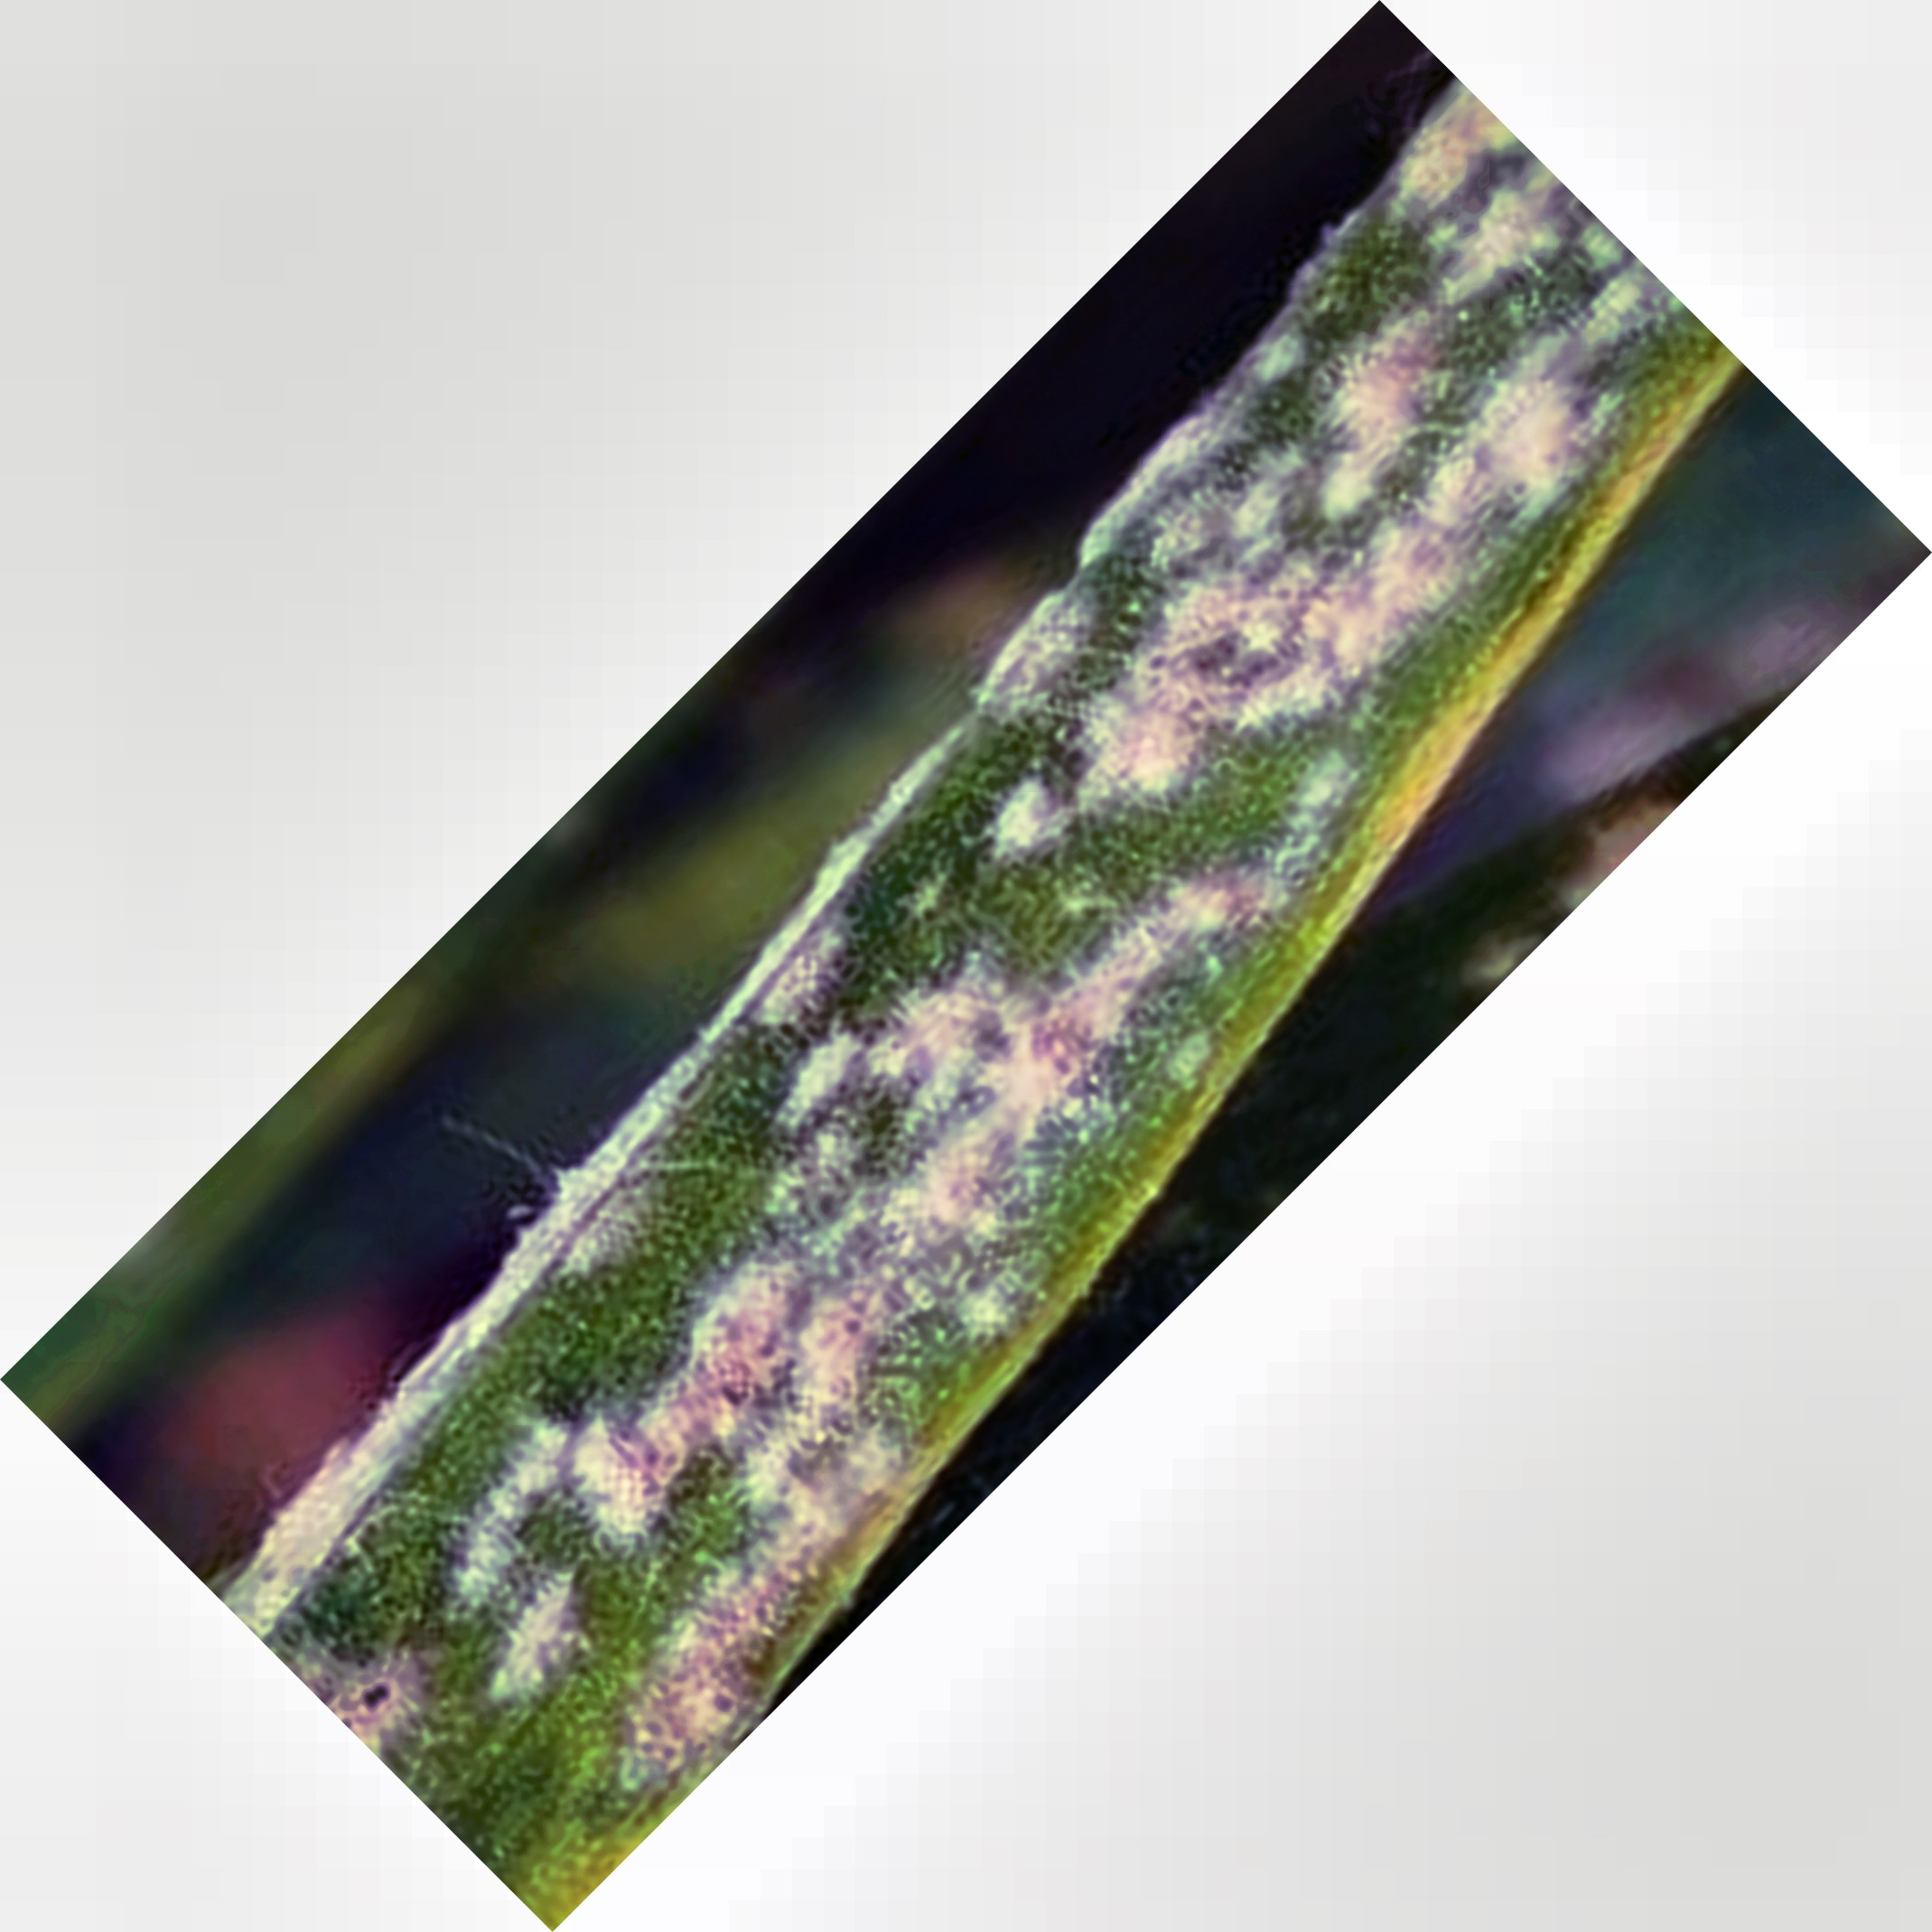Powdery Mildew: (580, 255, 1576, 1621)
